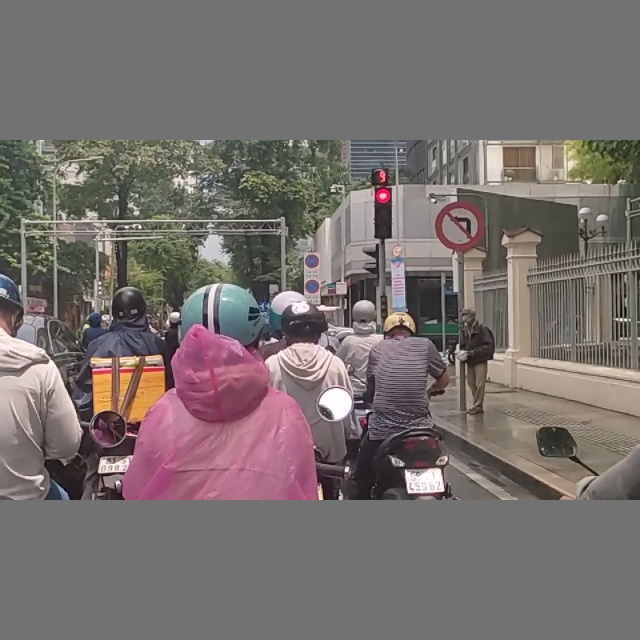P.123a: (434, 199, 485, 252)
P.130: (305, 253, 320, 269)
P.131a: (305, 279, 320, 294)
